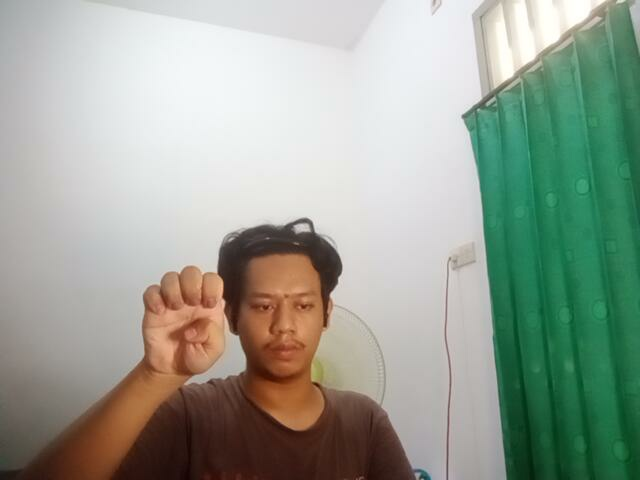E: (130, 265, 244, 380)
